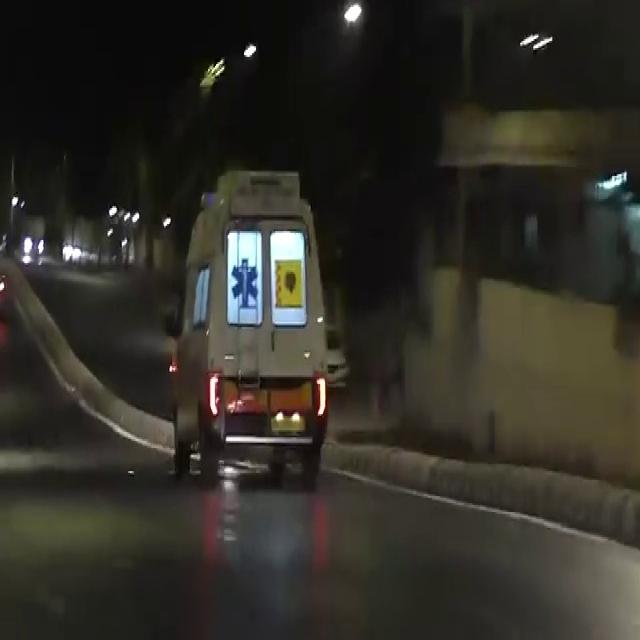ambulance: (176, 161, 328, 468)
